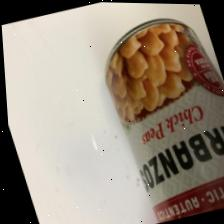metal: (70, 1, 224, 224)
